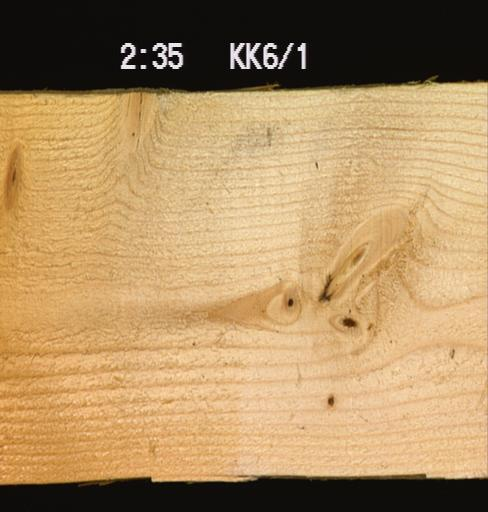small_knot: (277, 287, 303, 314), (320, 390, 341, 406)
